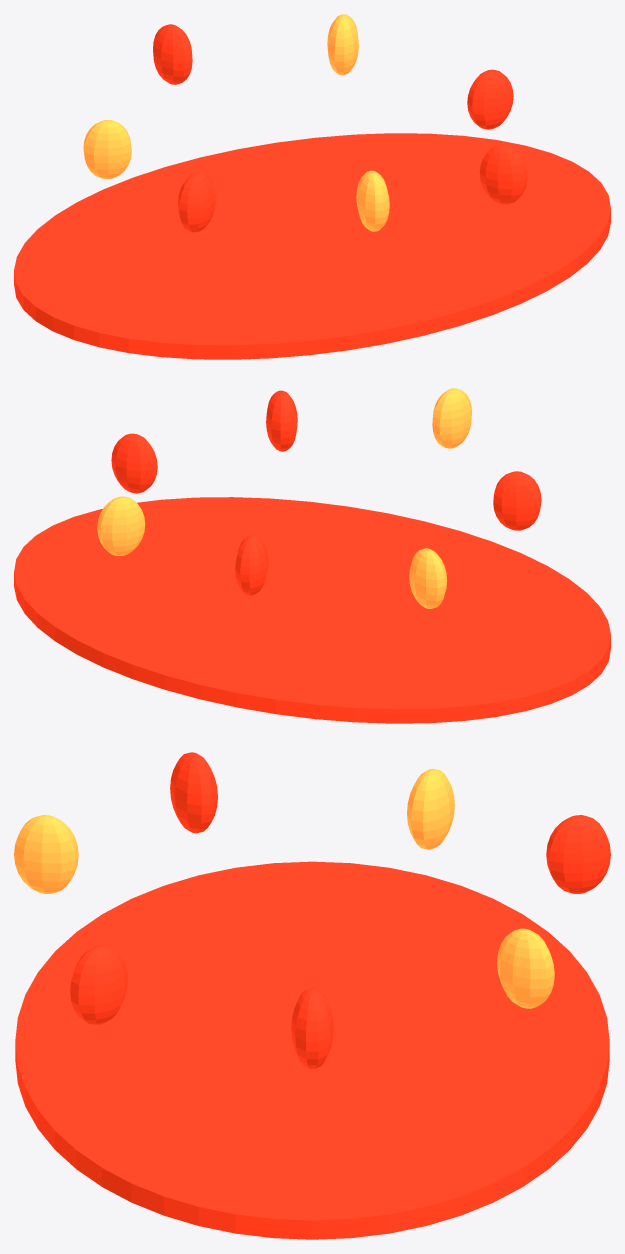
Rendered from affix_blood_aura.glb.
3 renders of one model, top to bottom at view 1: azimuth 30°, elevation 25°; view 2: azimuth 150°, elevation 25°; view 3: azimuth 270°, elevation 25°, orthographic. The views are drawn at different scales.
Parts seen in each view (by area): view 1: affix blood aura siphon ring, affix blood siphon drop 3, affix blood siphon drop 6, affix blood siphon drop 0, affix blood siphon drop 2, affix blood siphon drop 4, affix blood siphon drop 5, affix blood siphon drop 1; view 2: affix blood aura siphon ring, affix blood siphon drop 4, affix blood siphon drop 1, affix blood siphon drop 0, affix blood siphon drop 5, affix blood siphon drop 3, affix blood siphon drop 2, affix blood siphon drop 6; view 3: affix blood aura siphon ring, affix blood siphon drop 2, affix blood siphon drop 5, affix blood siphon drop 1, affix blood siphon drop 6, affix blood siphon drop 3, affix blood siphon drop 4, affix blood siphon drop 0.
Boxes of the visible parts, box(x1,y1,x2,y2) form: affix blood aura siphon ring: box(14, 133, 610, 359); affix blood siphon drop 3: box(83, 120, 131, 179); affix blood siphon drop 6: box(479, 145, 527, 204); affix blood siphon drop 0: box(467, 69, 513, 129); affix blood siphon drop 2: box(153, 24, 192, 84); affix blood siphon drop 4: box(177, 172, 215, 232); affix blood siphon drop 5: box(356, 170, 389, 231); affix blood siphon drop 1: box(327, 14, 358, 75); affix blood aura siphon ring: box(14, 497, 610, 723); affix blood siphon drop 4: box(493, 471, 541, 530); affix blood siphon drop 1: box(97, 496, 145, 555); affix blood siphon drop 0: box(111, 433, 157, 493); affix blood siphon drop 5: box(432, 388, 471, 448); affix blood siphon drop 3: box(409, 548, 447, 608); affix blood siphon drop 2: box(235, 534, 268, 595); affix blood siphon drop 6: box(266, 390, 297, 451); affix blood aura siphon ring: box(15, 861, 609, 1239); affix blood siphon drop 2: box(546, 815, 610, 893); affix blood siphon drop 5: box(14, 815, 78, 893); affix blood siphon drop 1: box(497, 928, 554, 1008); affix blood siphon drop 6: box(70, 945, 127, 1024); affix blood siphon drop 3: box(407, 768, 454, 849); affix blood siphon drop 4: box(170, 752, 217, 833); affix blood siphon drop 0: box(291, 988, 333, 1069).
Size of the model in its own units: 1.4 by 0.3975 by 0.9842.
